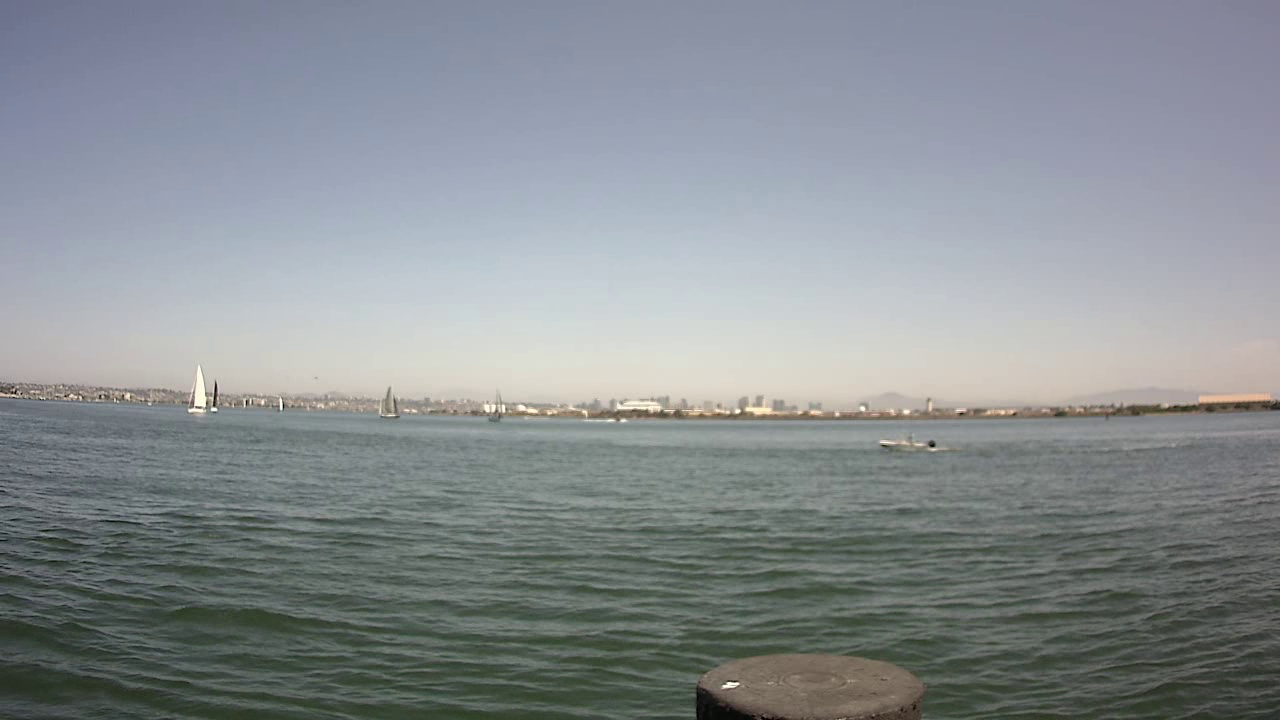target: (873, 424, 947, 456)
